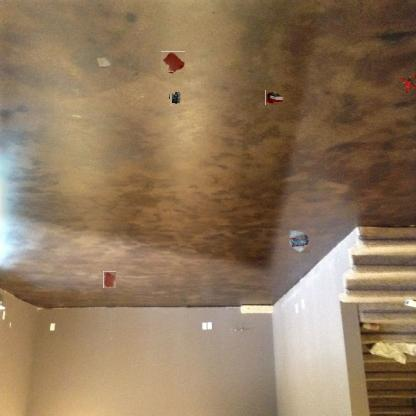dirty: (288, 229, 310, 253), (265, 89, 284, 105), (400, 74, 416, 91), (168, 91, 182, 105), (98, 56, 113, 68)
liquid: (162, 51, 185, 73), (103, 271, 116, 288)
